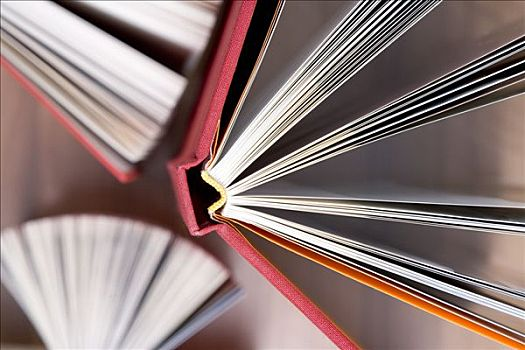book: (167, 2, 525, 348), (0, 1, 217, 182), (0, 213, 246, 348)
